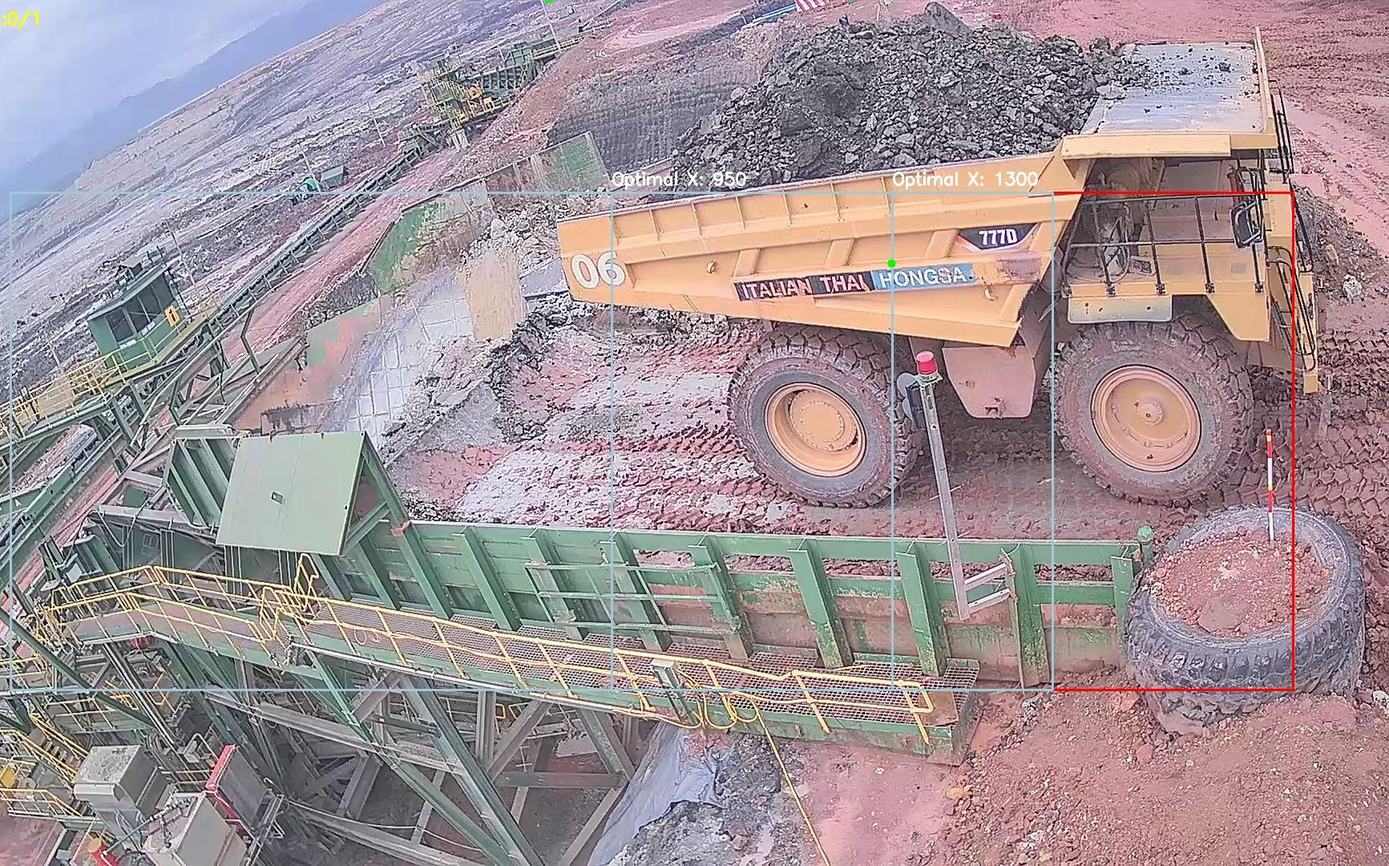company: (725, 254, 984, 302)
full_load: (693, 17, 1069, 195)
mining_truck: (540, 6, 1325, 503)
tail_number: (567, 246, 638, 294)
truck_size: (957, 220, 1037, 257)
